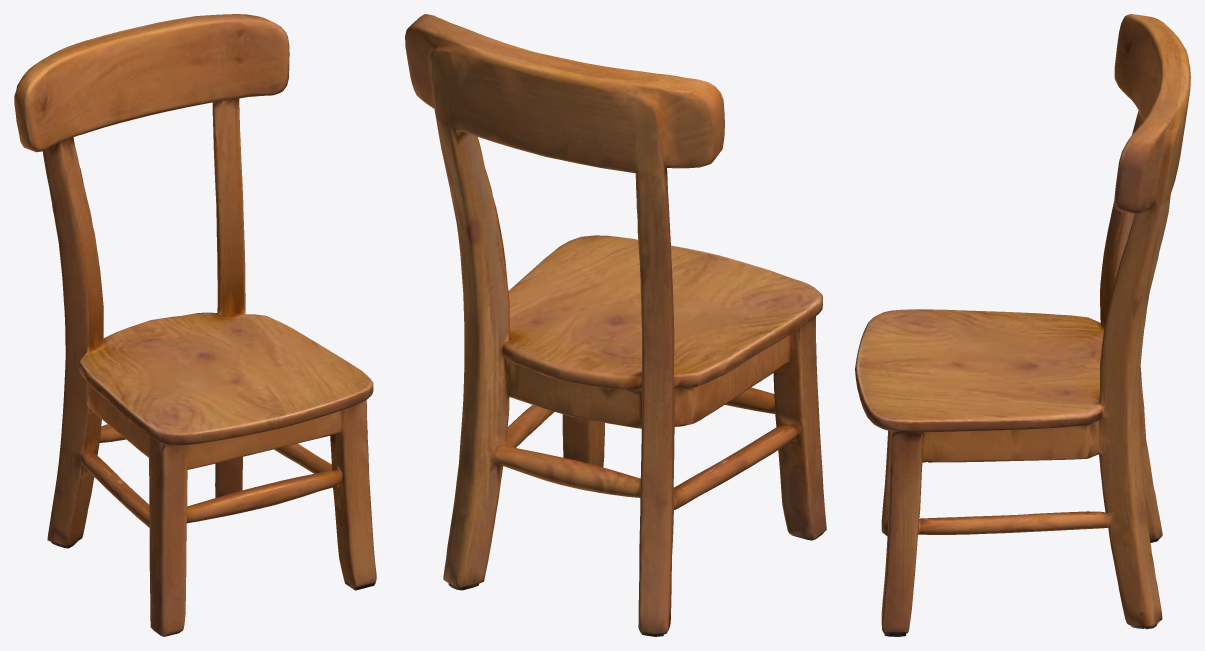
The model's file is wood chair.glb.
3 views of the same model, side by side, from view 1: azimuth 30°, elevation 25°; view 2: azimuth 150°, elevation 25°; view 3: azimuth 270°, elevation 25° (orthographic). The views are drawn at different scales.
Size of the model in its own units: 1.16 by 2 by 1.19.
Materials: 1 (1 with a texture image).
